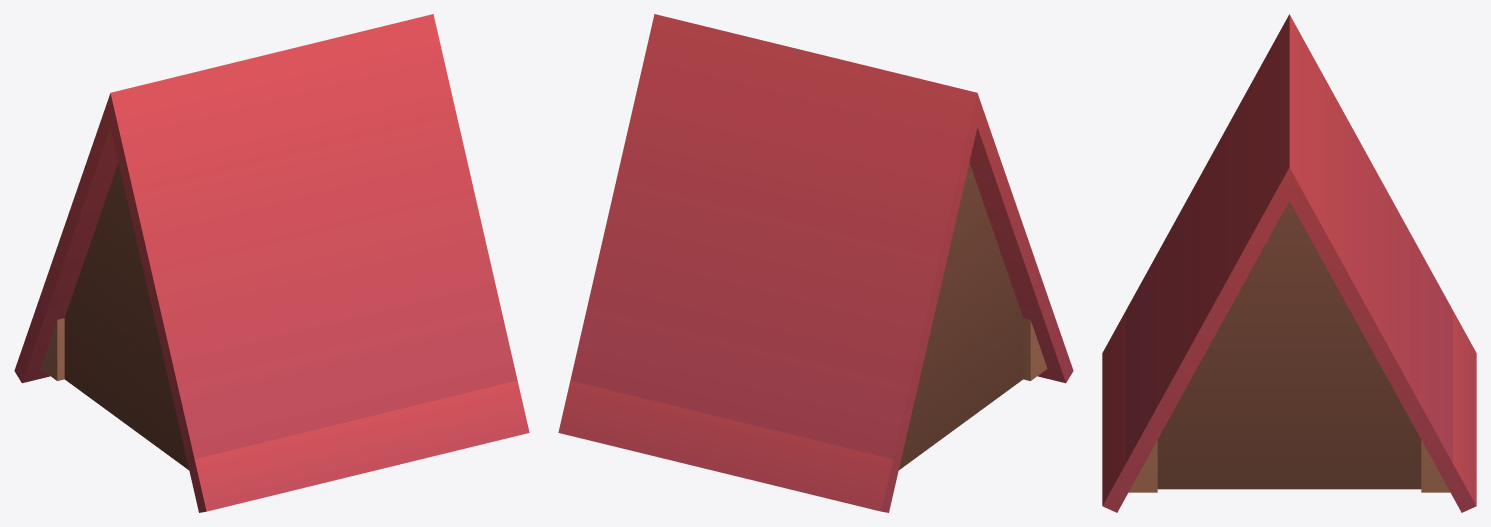
File: roof-high-gable.glb
The picture shows the model from 3 angles, left to right: view 1: azimuth 30°, elevation 25°; view 2: azimuth 150°, elevation 25°; view 3: azimuth 270°, elevation 25°; orthographic projection. The views are drawn at different scales.
Parts seen in each view (by area): view 1: roof-high-gable; view 2: roof-high-gable; view 3: roof-high-gable.
Part boxes in pixels (x1,y1,x2,y2): roof-high-gable: (14, 14, 529, 512); roof-high-gable: (558, 14, 1073, 512); roof-high-gable: (1102, 14, 1476, 512).
Size of the model in its own units: 1.1 by 1.16 by 1.13.
Materials: 1 (1 with a texture image).
